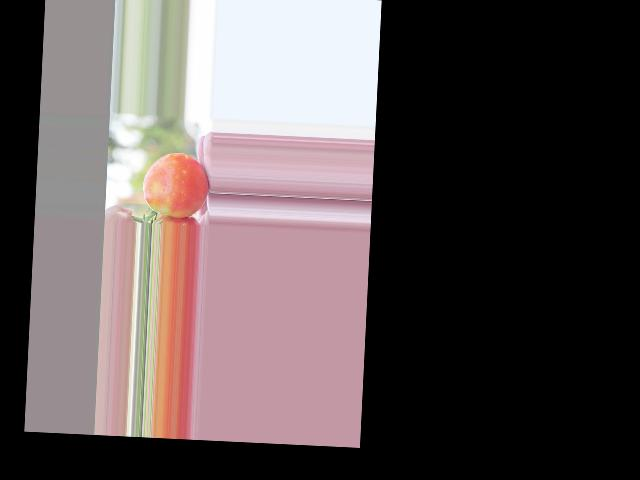tomato: (141, 151, 209, 218)
